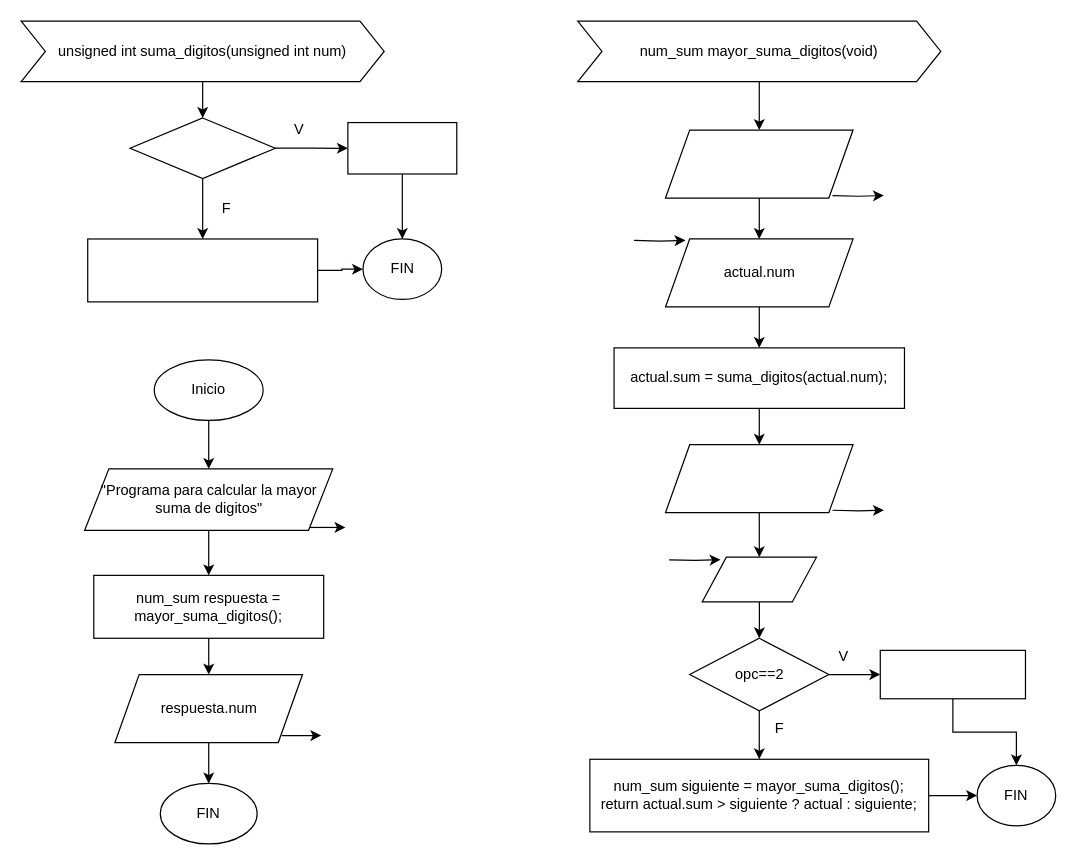
Image size: 1077x865. Some labels were removed from this diagram. The centre of each missing label's shape, as x and y in pixels:
"Continuar?": point 758,478
"Introduzca un numero natural": point 758,163
num < 10: point 202,147
opc: point 759,579
retrurn actual;: point 952,674
return num%10 + suma_digitos(num/10);: point 202,270
return num;: point 402,147
